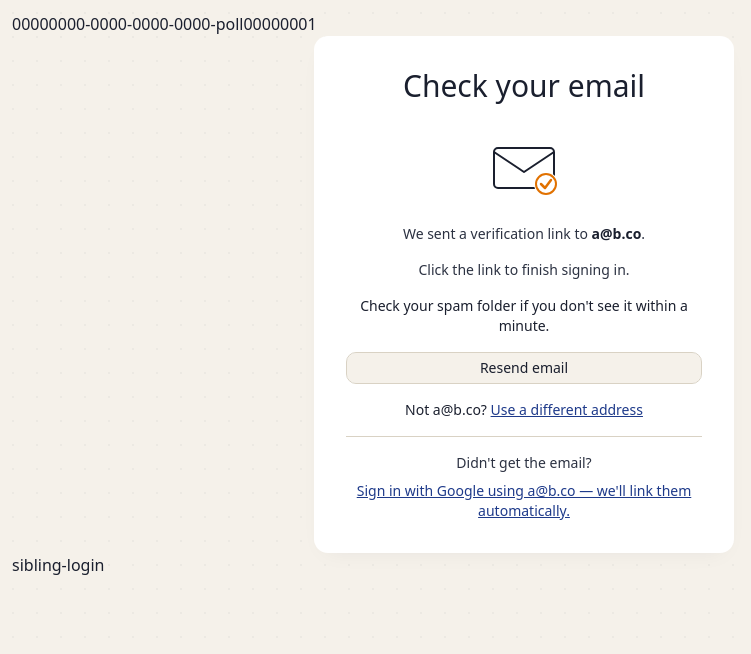
Test case: VerifyEmailPage AC4 — resend countdown › S2 — 429 with MISSING Retry-After header defaults to a 60s countdown
Check: the element with test id "verify-polling" is shown, box [346,128,702,521]
What coordinates should you click on to do the following:
click the button with test id "verify-resend-button"
I would click on:
 (524, 368)
Its box is [346,352,702,384].
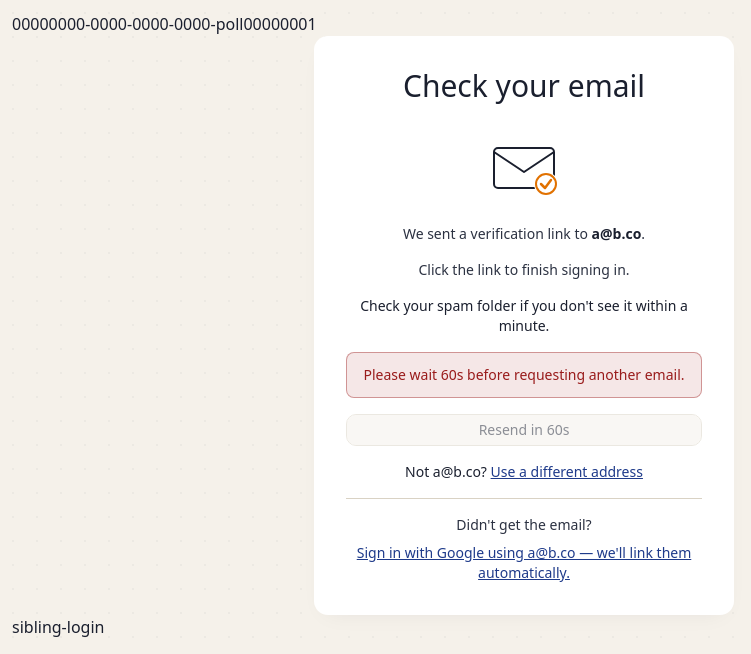
Check: the message with test id "verify-resend-error" shows "60", box [346,352,702,398]
